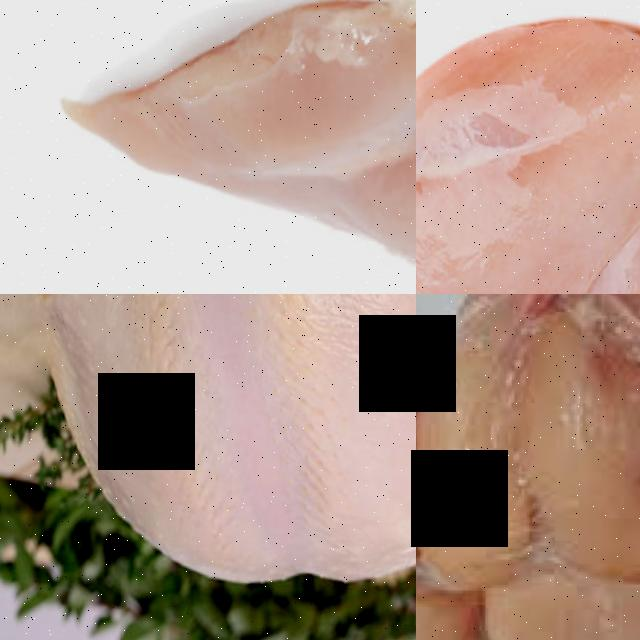chicken breast: (0, 294, 416, 639), (0, 0, 416, 294), (416, 294, 640, 626), (416, 0, 640, 294), (452, 574, 640, 640)
